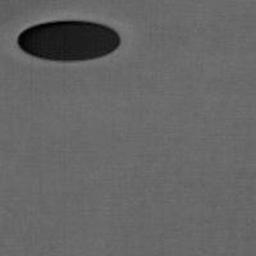Punching: (18, 20, 120, 61)
